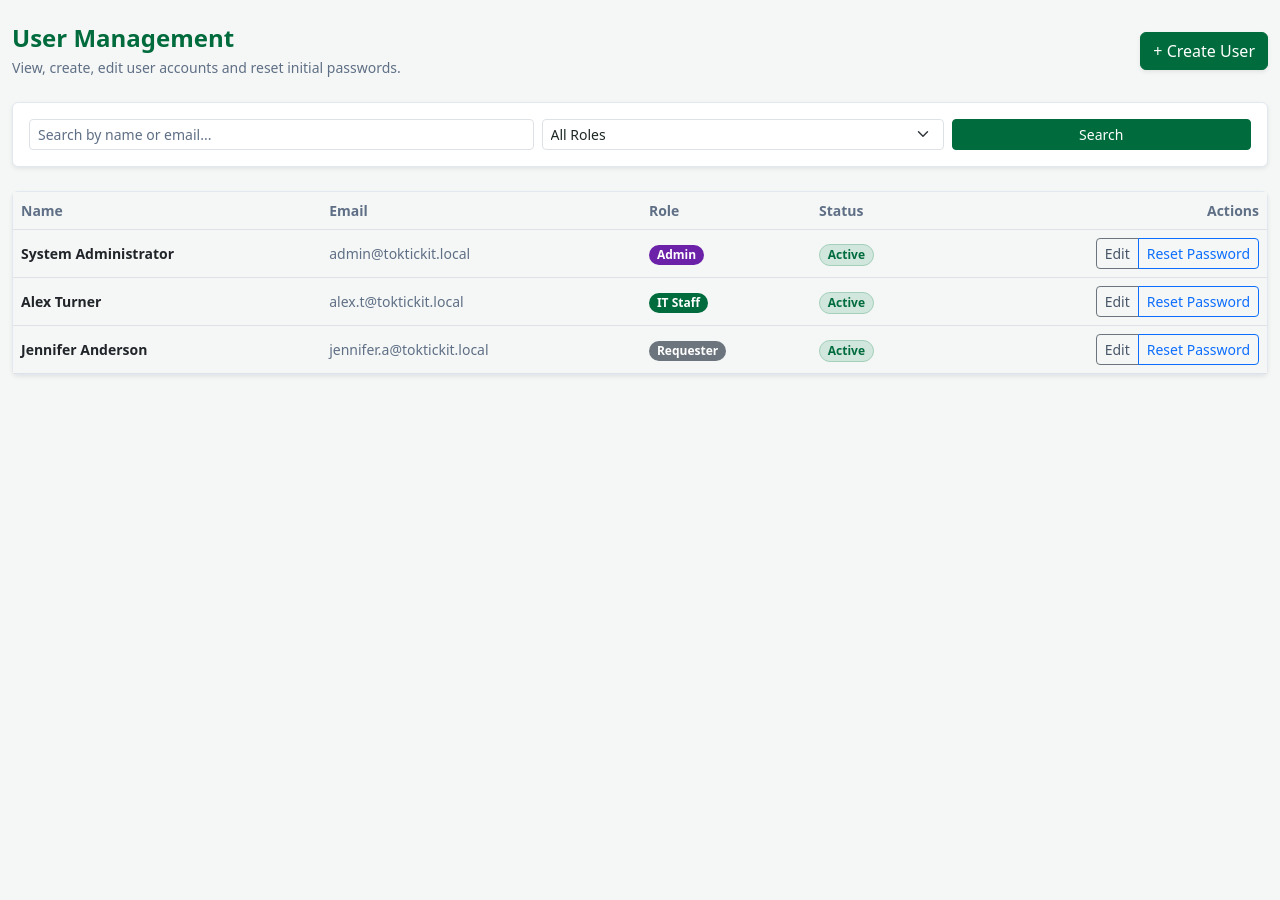
Test: UI-07: Admin User Management Screen & Modals Tests (AC-18..24) › displays duplicate email 409 Conflict error banner in Create modal (AC-21)
Click the button "+ Create User": point(1204, 51) [1140, 32, 1268, 70]
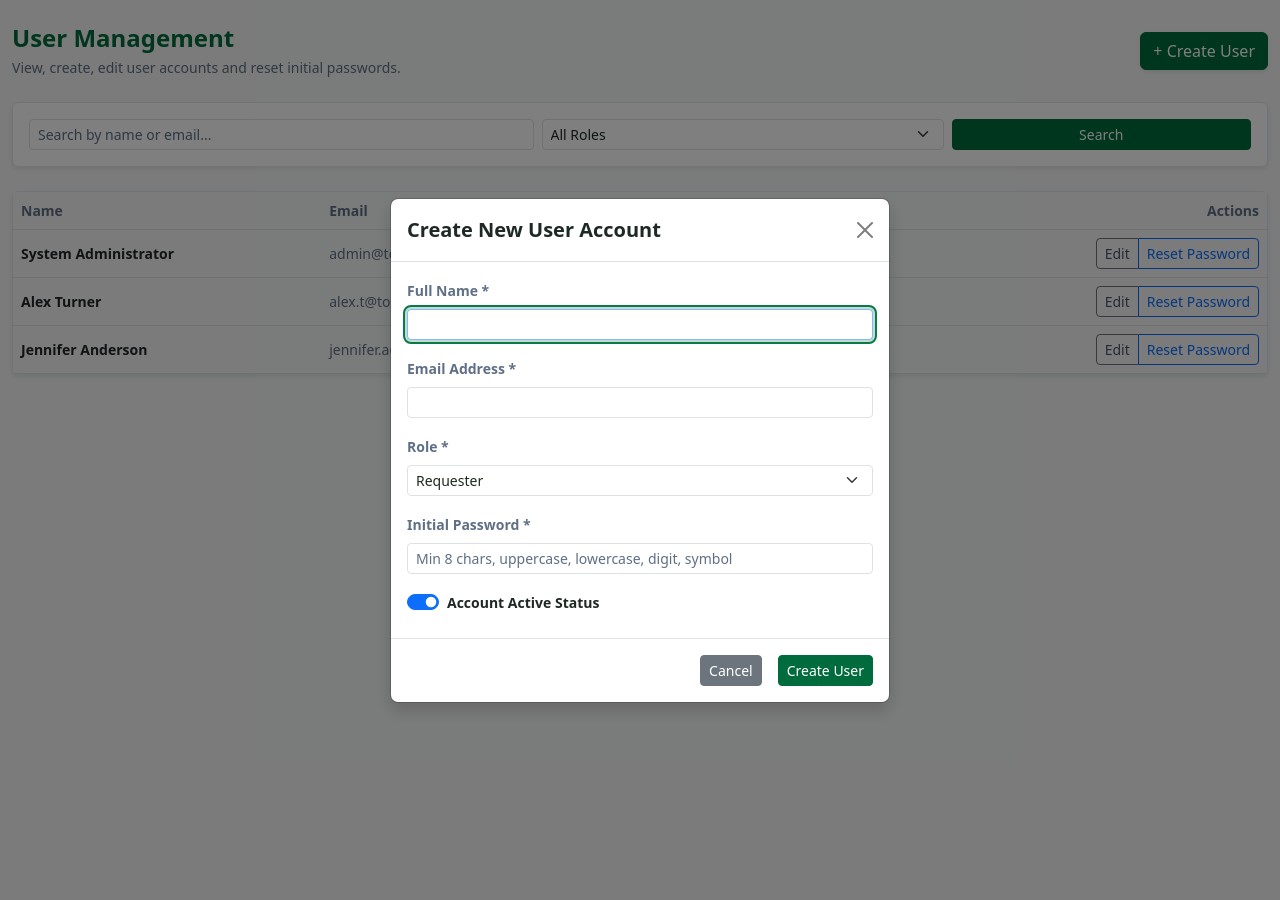
In the field labelled "Full Name *": point(640, 324) [407, 308, 873, 340], type "Dup User"
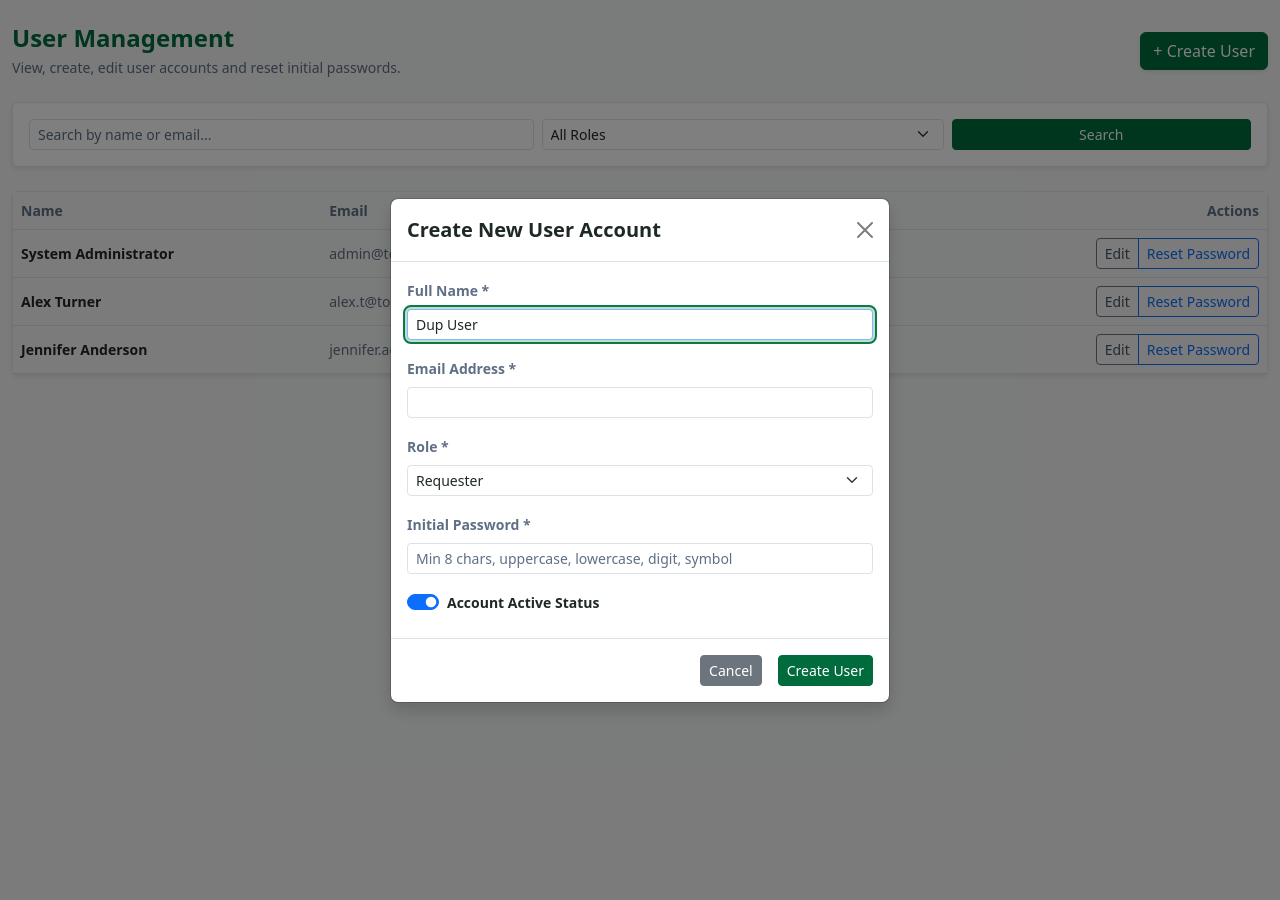
In the field labelled "Email Address *": point(640, 402) [407, 386, 873, 418], type "admin@toktickit.local"
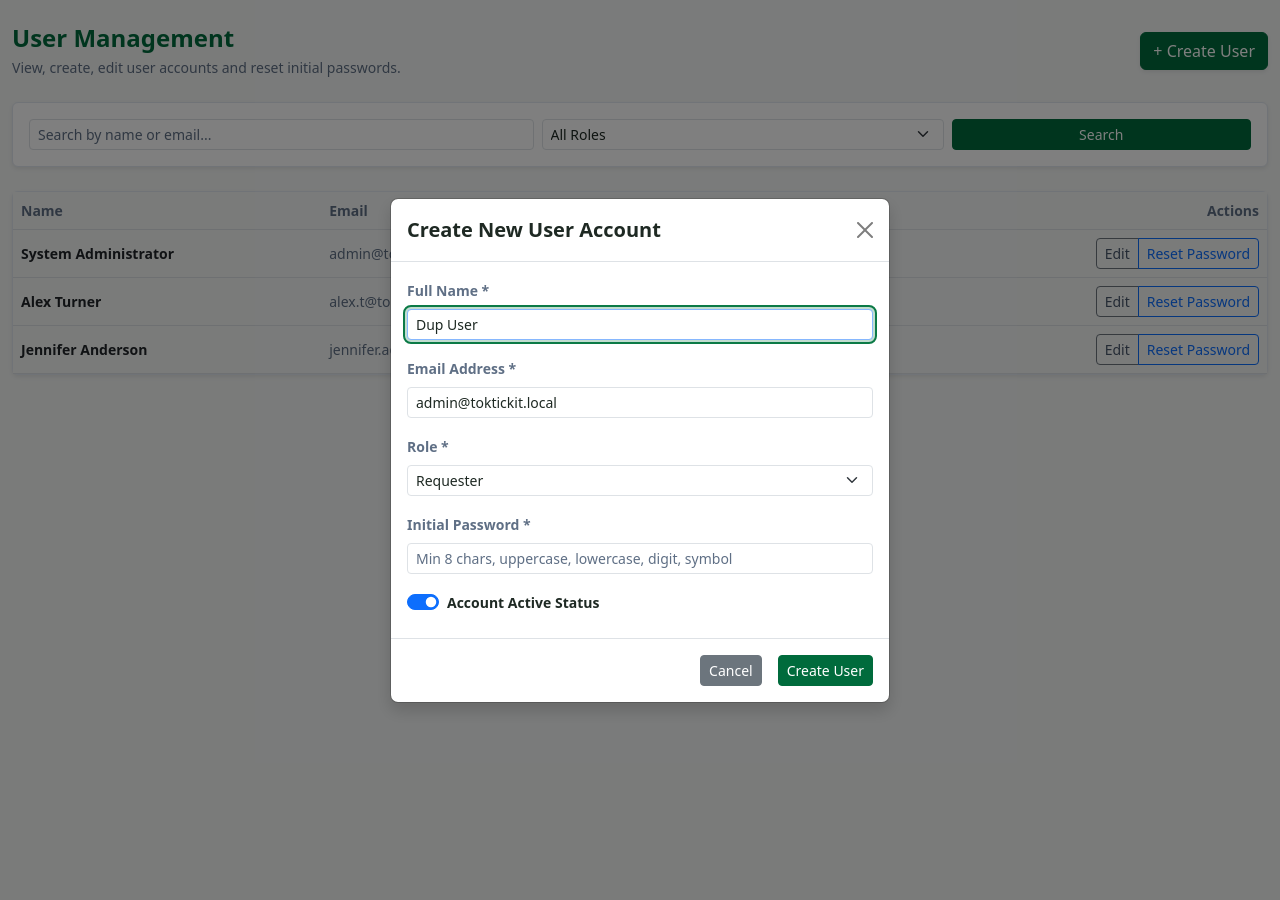
In the password field with placeholder "Min 8 chars, uppercase, lowercase, digit, symbol": point(640, 558) [407, 542, 873, 574], type "Initial123!"
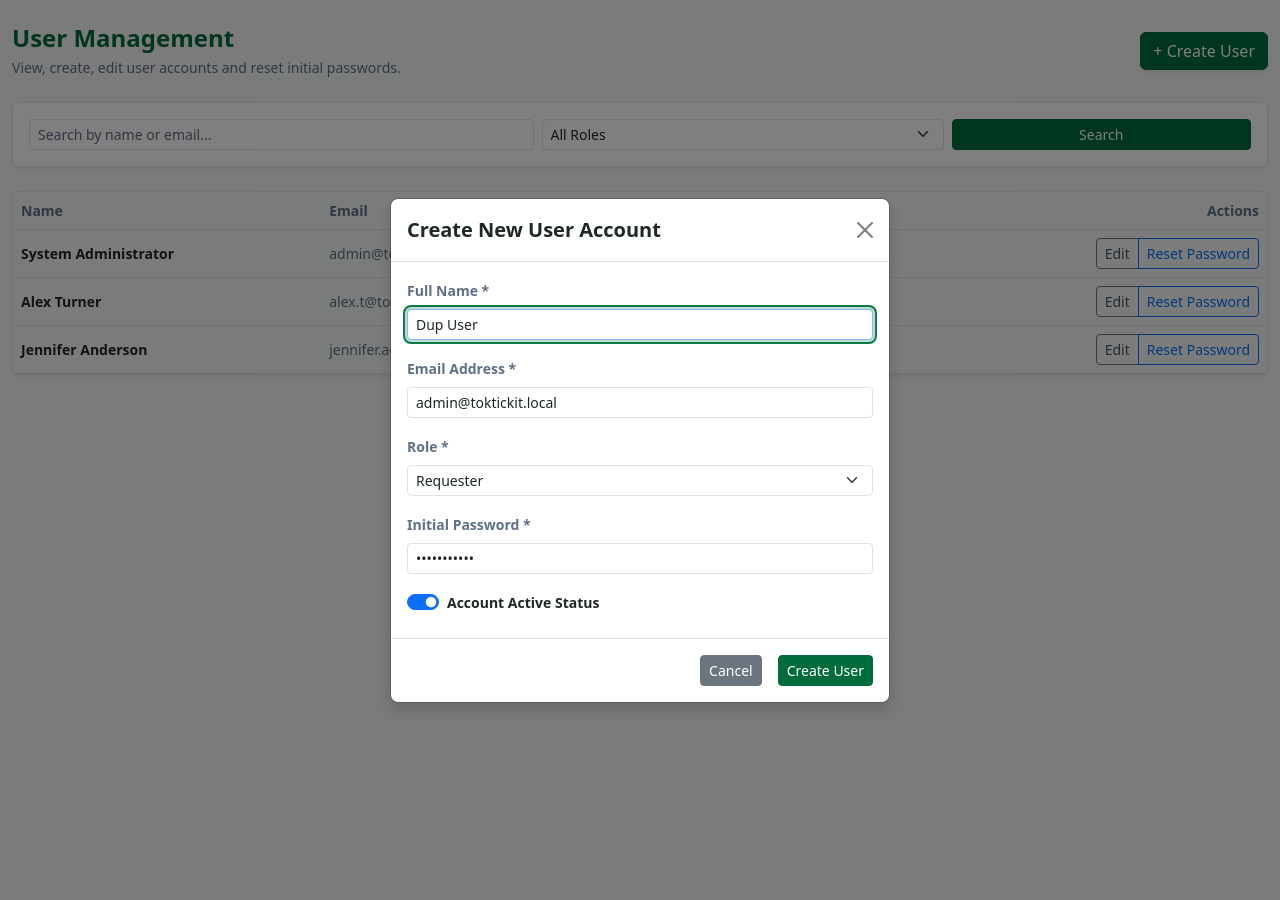
Click the button "Create User": point(825, 670) [778, 654, 873, 686]
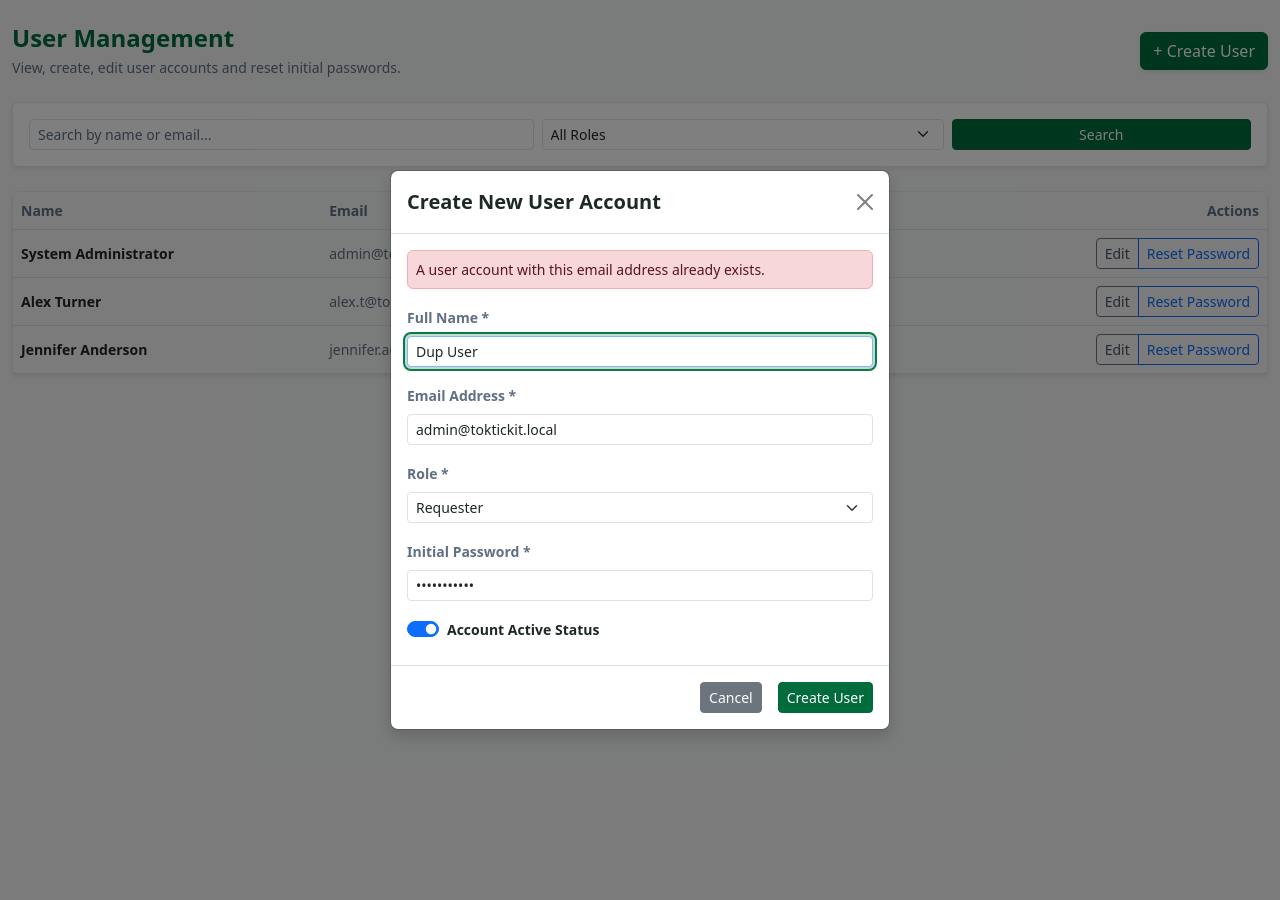
Expected: the text "A user account with this email address already exists." is shown, [407, 250, 873, 289]
